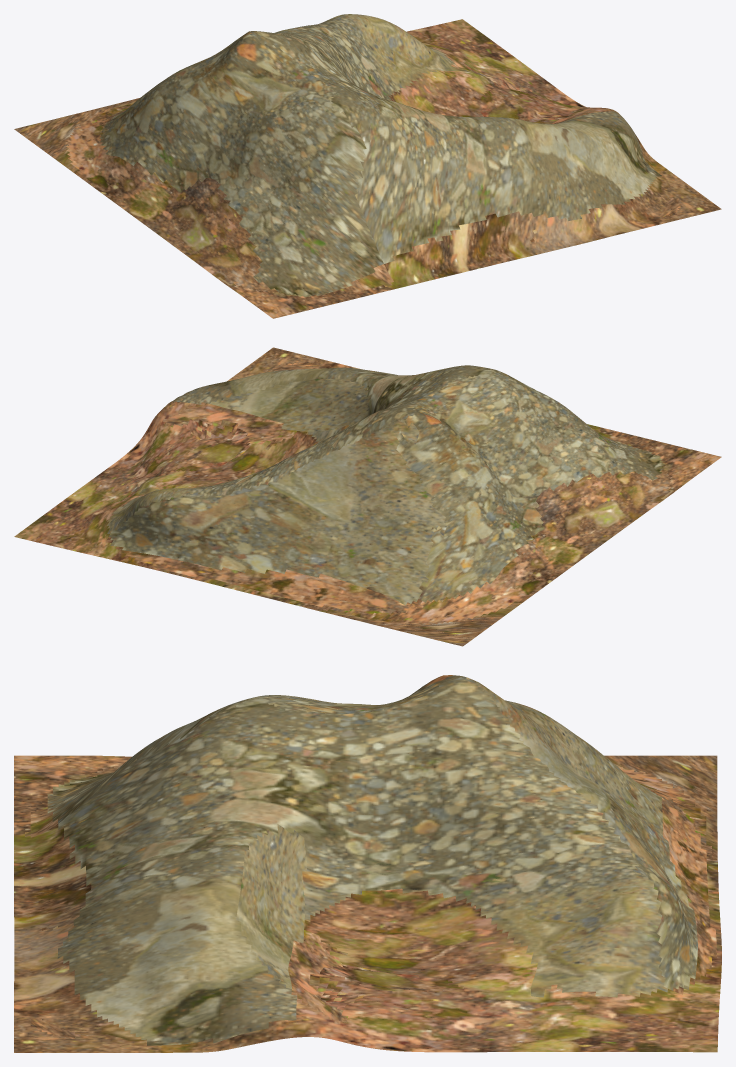
File: grnd.glb
3 renders of one model, top to bottom at view 1: azimuth 30°, elevation 25°; view 2: azimuth 150°, elevation 25°; view 3: azimuth 270°, elevation 25°, orthographic. The views are drawn at different scales.
Parts seen in each view (by area): view 1: Landscape; view 2: Landscape; view 3: Landscape.
Boxes of the visible parts, x1,y1,x2,y2 form: Landscape: (14, 14, 721, 318); Landscape: (14, 347, 721, 646); Landscape: (14, 675, 721, 1052).
Size of what is drawn, in the model's own units: 2.02 by 0.549 by 2.01.
2 materials, 2 textured.
